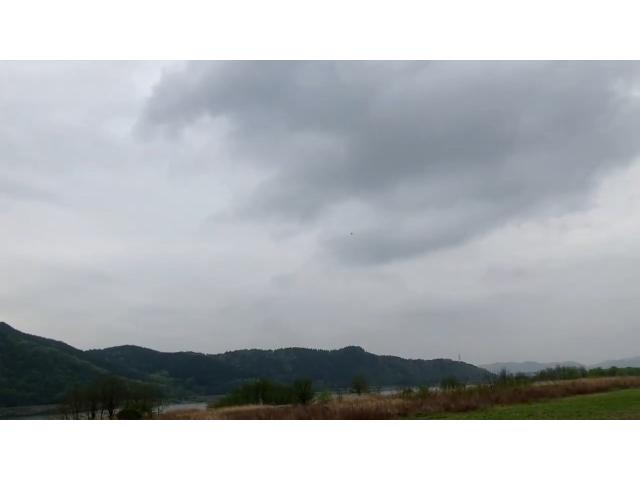Anti-Drone: (344, 230, 366, 238)
